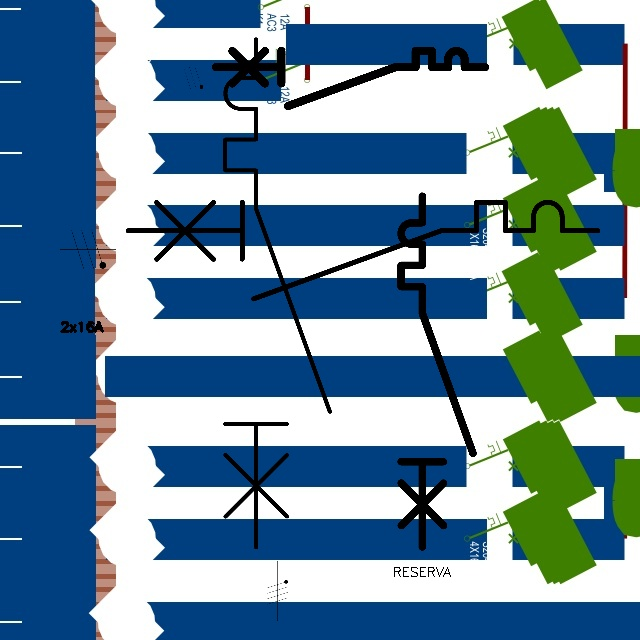interruptor_termomagnetico: (212, 26, 343, 560), (115, 190, 609, 311), (392, 187, 482, 556), (209, 44, 492, 113)
